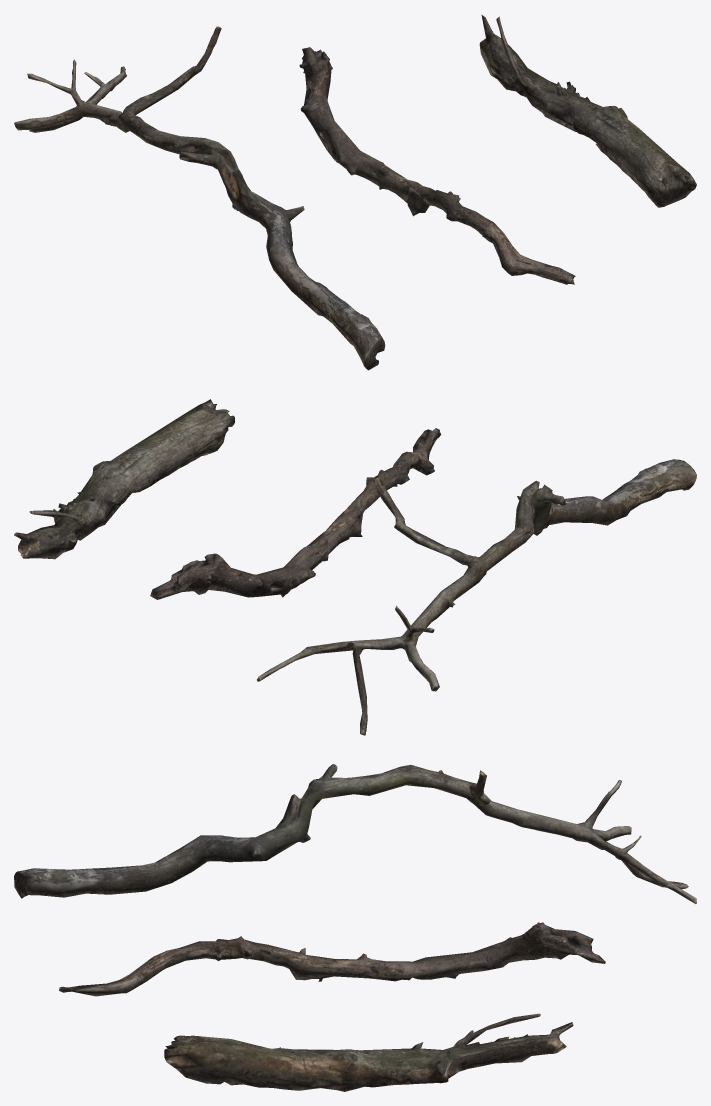
File: pl_dry_brush.glb
The picture shows the model from 3 angles, top to bottom: view 1: azimuth 30°, elevation 25°; view 2: azimuth 150°, elevation 25°; view 3: azimuth 270°, elevation 25°; orthographic projection. The views are drawn at different scales.
Visible parts, largest first — view 1: dry_branches_medium_01_c; view 2: dry_branches_medium_01_c; view 3: dry_branches_medium_01_c.
Part boxes in pixels (box(x1,y1,x2,y2)): dry_branches_medium_01_c: box(14, 14, 696, 370); dry_branches_medium_01_c: box(14, 399, 696, 735); dry_branches_medium_01_c: box(14, 764, 696, 1091).
Bounding box in the file's own units: 0.8171 × 0.2623 × 0.9999.
Materials: 1 (1 with a texture image).
